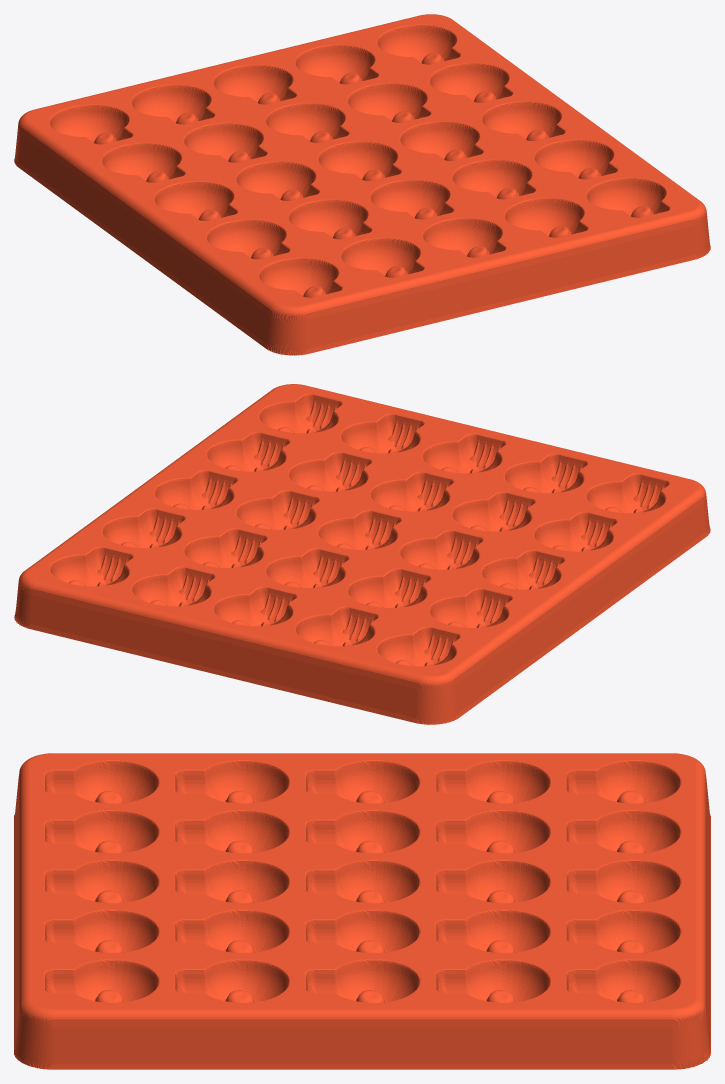
File: mold.glb
The picture shows the model from 3 angles, top to bottom: view 1: azimuth 30°, elevation 25°; view 2: azimuth 150°, elevation 25°; view 3: azimuth 270°, elevation 25°; orthographic projection. The views are drawn at different scales.
Visible parts, largest first — view 1: geometry_0; view 2: geometry_0; view 3: geometry_0.
Boxes of the visible parts, x1,y1,x2,y2 form: geometry_0: (14,14,710,355); geometry_0: (14,384,710,724); geometry_0: (14,753,710,1069).
Size of the model in its own units: 0.1441 by 0.0136 by 0.1584.
